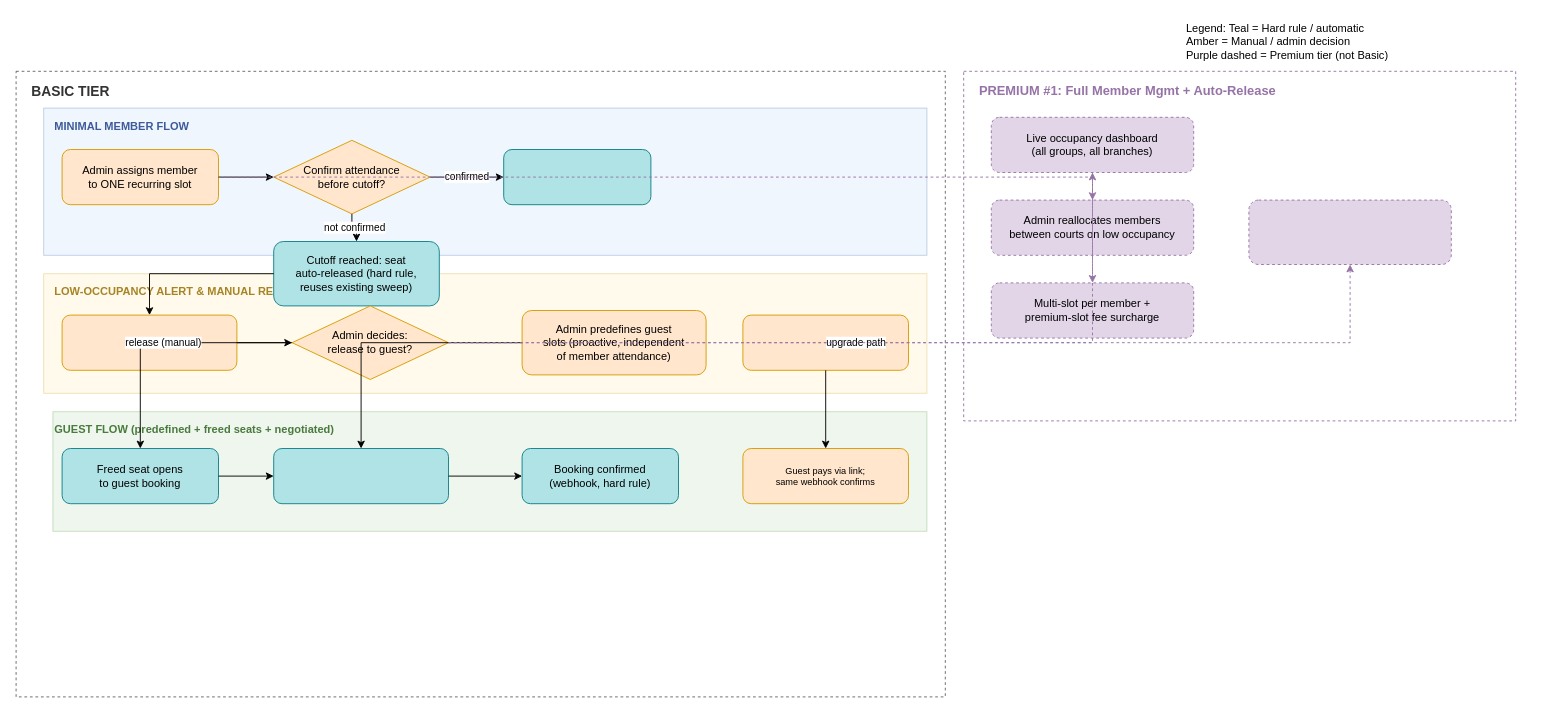
Image size: 1550x713. Some labels were removed from this diagram. Each missing label, with the centre of its shape:
Checked in (hard rule): (577,177)
Edge case: call-in, admin negotiates + sends Payment Link via WhatsApp: (825,342)
Fully automatic release, per-court configurable cutoff, guest waitlist: (1349,231)
Guest browses & pays (self-service, hard rule): (360,476)
Low-occupancy alert (% of capacity, configurable): (149,342)
